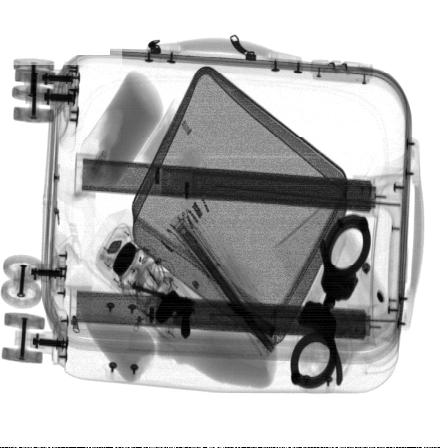Bullet: (223, 302, 277, 337)
Gun: (131, 282, 194, 339)
HandCuffs: (289, 213, 373, 389)
